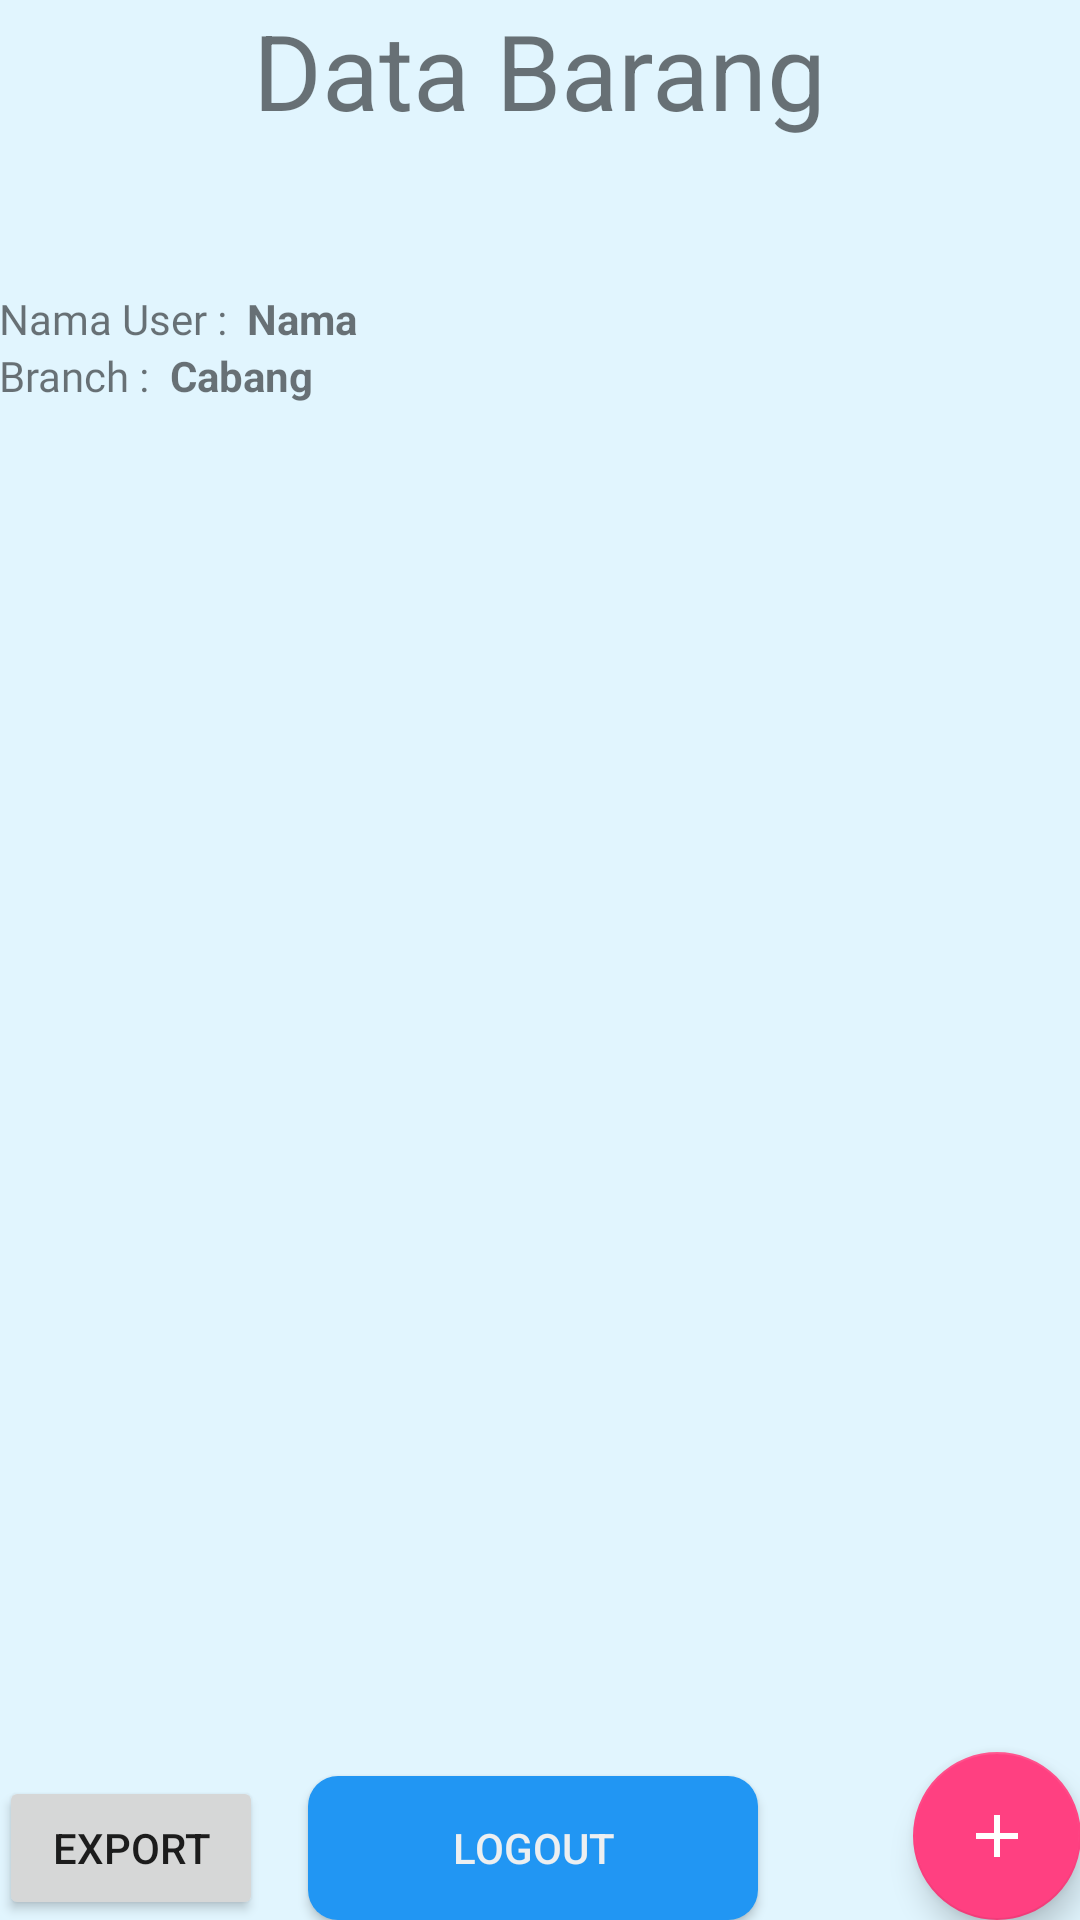

Icon click points for this 1080 × 1920 phone screenshot, format [x,y]:
add: [996,1836]
